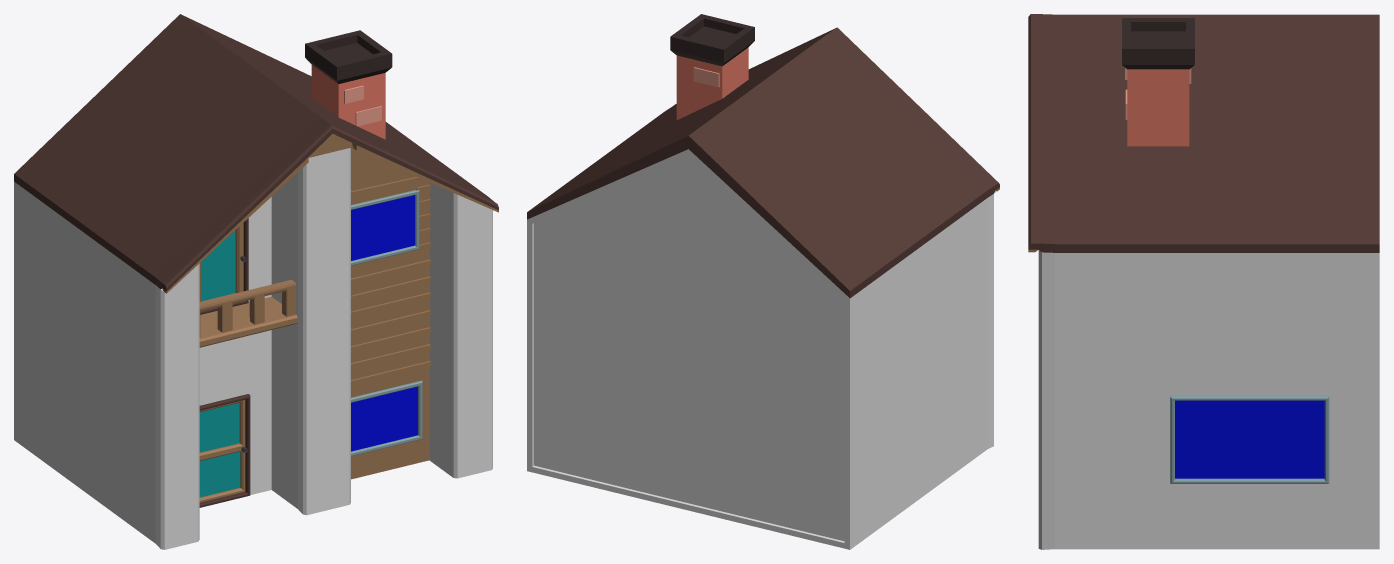
File: House4.fbx
3 views of the same model, side by side, from view 1: azimuth 30°, elevation 25°; view 2: azimuth 150°, elevation 25°; view 3: azimuth 270°, elevation 25° (orthographic). The views are drawn at different scales.
Parts seen in each view (by area): view 1: House4Walls, House4; view 2: House4Walls, House4; view 3: House4, House4Walls.
Part boxes in pixels (x1,y1,x2,y2): House4Walls: [14, 148, 492, 549]; House4: [14, 14, 498, 507]; House4Walls: [527, 149, 996, 549]; House4: [527, 14, 999, 298]; House4: [1028, 14, 1379, 483]; House4Walls: [1038, 250, 1379, 549].
Bounding box in the file's own units: 1041 × 1202 × 824.
